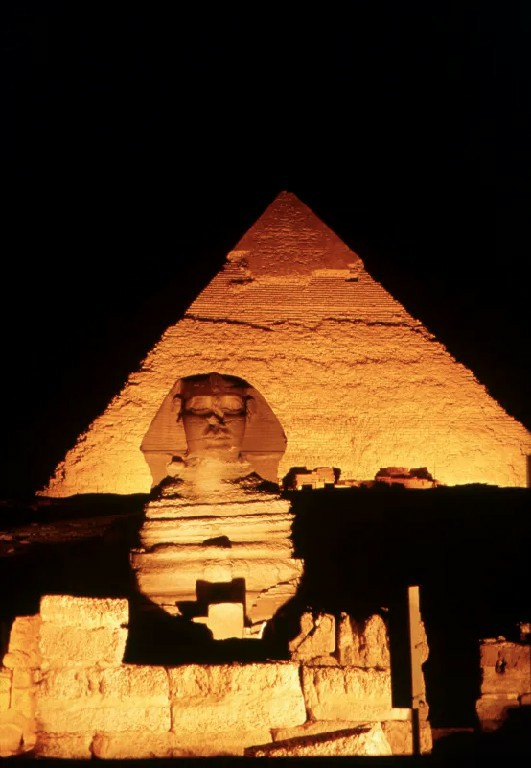Pyramid: (42, 192, 531, 496)
